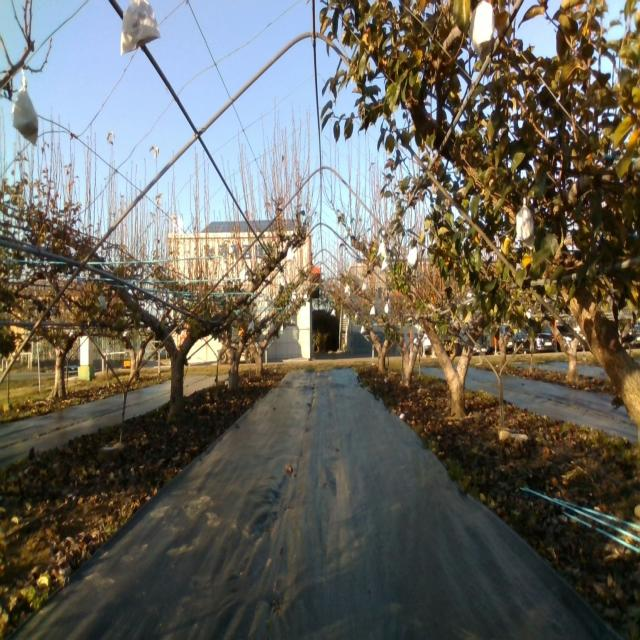pearbags: (10, 70, 40, 145), (118, 0, 158, 53), (469, 1, 495, 57), (514, 207, 535, 253), (407, 248, 418, 270)
